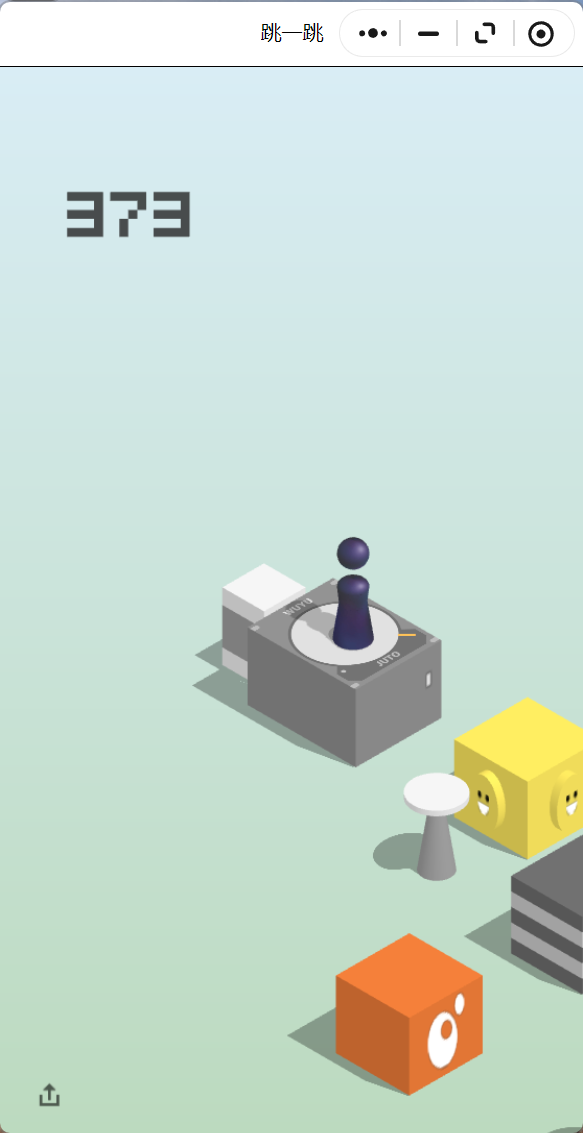piece: (337, 537, 370, 645)
target: (222, 563, 303, 611)
